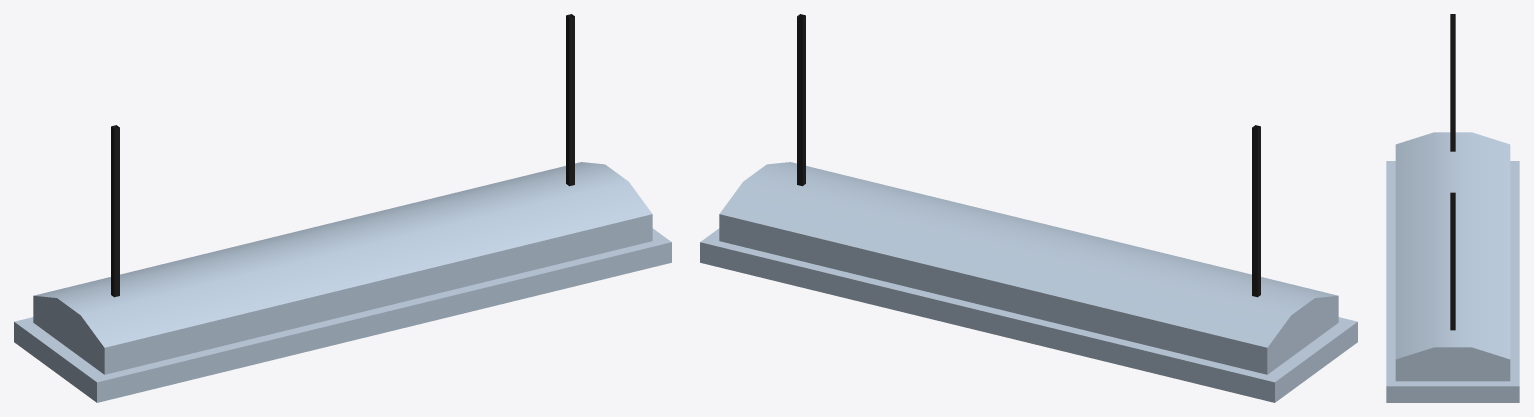
Rendered from long_lamp.fbx.
3 views of the same model, side by side, from view 1: azimuth 30°, elevation 25°; view 2: azimuth 150°, elevation 25°; view 3: azimuth 270°, elevation 25° (orthographic). The views are drawn at different scales.
Visible parts, largest first — view 1: long_lamp; view 2: long_lamp; view 3: long_lamp.
Boxes of the visible parts, bbox=[...] form: long_lamp: bbox=[14, 14, 671, 402]; long_lamp: bbox=[700, 14, 1357, 402]; long_lamp: bbox=[1386, 14, 1519, 402].
Size of the model in its own units: 1.2 by 0.461 by 0.3.
